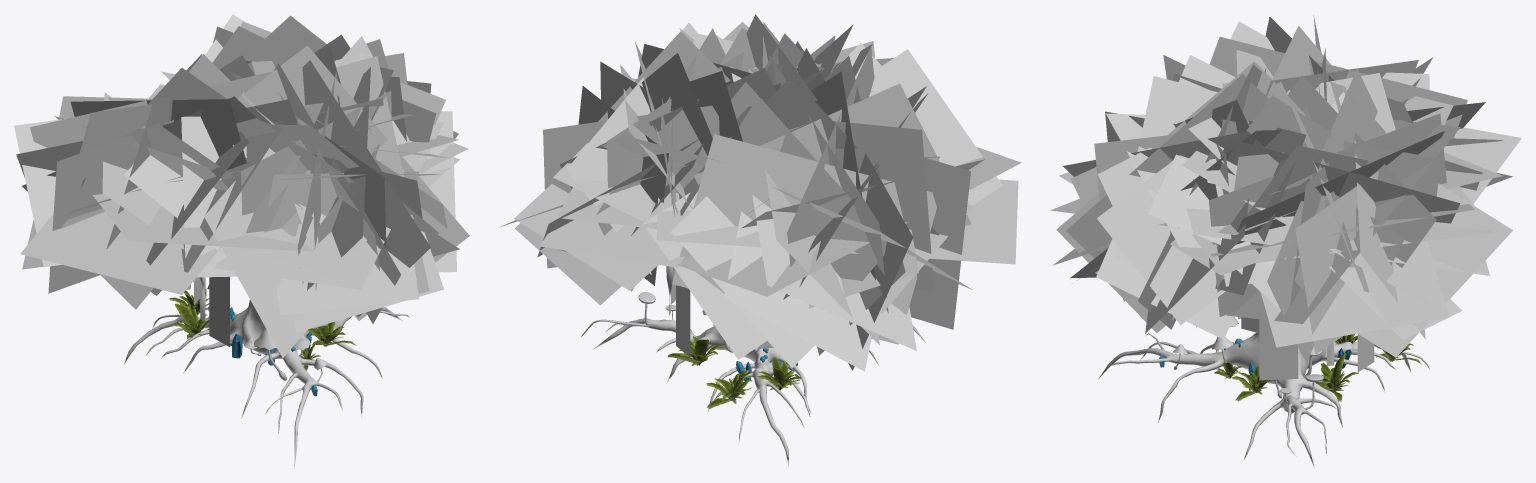
Rendered from Tree_scene_merge.fbx.
3 renders of one model, left to right at view 1: azimuth 30°, elevation 25°; view 2: azimuth 150°, elevation 25°; view 3: azimuth 270°, elevation 25°, orthographic. The views are drawn at different scales.
Parts seen in each view (by area): view 1: Retopo_Central_tree_2_LP:pPlane7, Retopo_Central_tree_2_LP:polySurface1, fern1_polySurface4, shroom_3_polySurface5; view 2: Retopo_Central_tree_2_LP:pPlane7, Retopo_Central_tree_2_LP:polySurface1, fern1_polySurface4; view 3: Retopo_Central_tree_2_LP:pPlane7, Retopo_Central_tree_2_LP:polySurface1, fern1_polySurface4, shroom_3_polySurface5.
Boxes of the visible parts, <box> form: Retopo_Central_tree_2_LP:pPlane7: <box>14,14,469,357</box>; Retopo_Central_tree_2_LP:polySurface1: <box>124,300,409,468</box>; fern1_polySurface4: <box>169,289,356,370</box>; shroom_3_polySurface5: <box>243,329,326,387</box>; Retopo_Central_tree_2_LP:pPlane7: <box>499,14,1021,371</box>; Retopo_Central_tree_2_LP:polySurface1: <box>581,142,925,467</box>; fern1_polySurface4: <box>668,336,801,408</box>; Retopo_Central_tree_2_LP:pPlane7: <box>1050,15,1521,380</box>; Retopo_Central_tree_2_LP:polySurface1: <box>1098,333,1429,467</box>; fern1_polySurface4: <box>1214,334,1421,401</box>; shroom_3_polySurface5: <box>1172,317,1281,398</box>.
Size of the model in its own units: 103 by 79.95 by 94.03.
